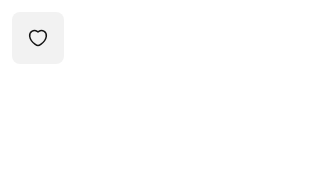
it: WishlistToggle › switches its label and pressed state when clicked
Step 1. Click the button named "Add to wishlist" → [38, 38], box left=12, top=12, right=64, bottom=64
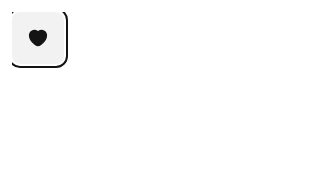
Check: the button named "Remove from wishlist" is pressed
Step 2. Click the button named "Remove from wishlist" → [38, 38], box left=12, top=12, right=64, bottom=64
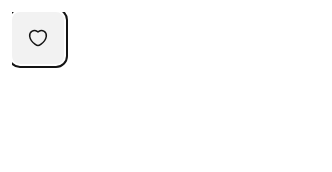
Check: the button named "Add to wishlist" is not pressed, box left=12, top=12, right=64, bottom=64
